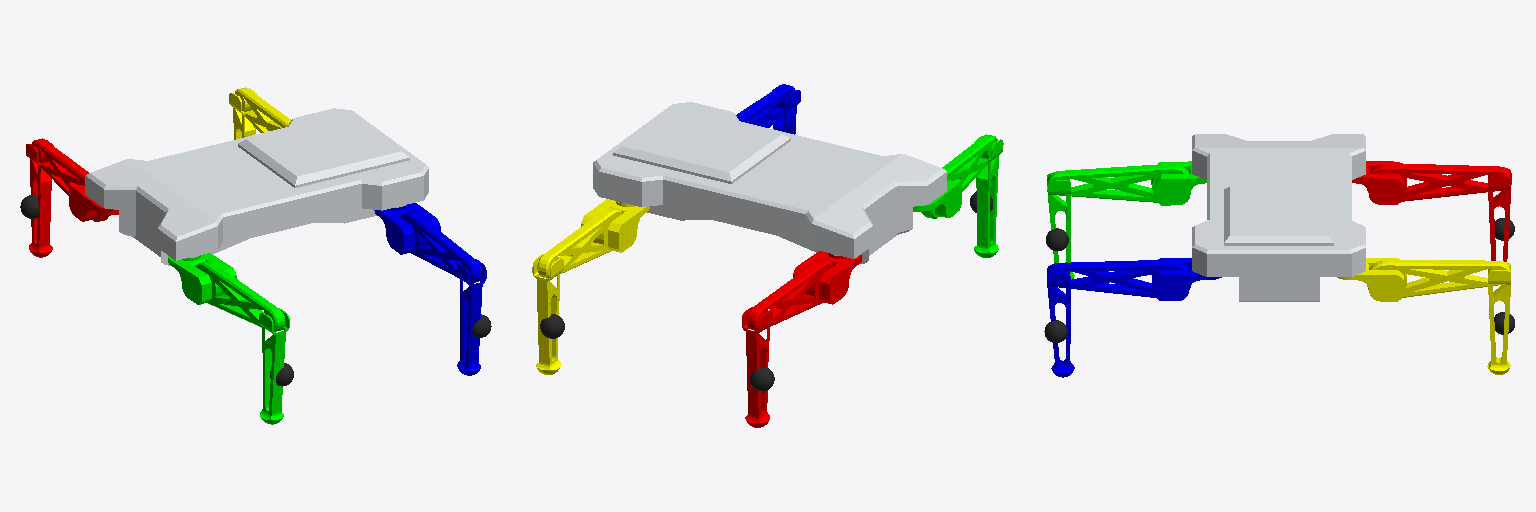
robot.urdf — Full_robot_urdf:
<?xml version="1.0" encoding="utf-8"?>
<!-- This URDF was automatically created by SolidWorks to URDF Exporter! Originally created by Stephen Brawner (brawner@gmail.com) 
     Commit Version: 1.6.0-4-g7f85cfe  Build Version: 1.6.7995.38578
     For more information, please see http://wiki.ros.org/sw_urdf_exporter -->
<robot
  name="Full_robot_urdf">
  
  <!-- Define materials -->
  <material name="red">
    <color rgba="1 0 0 1"/>
  </material>
  <material name="green">
    <color rgba="0 1 0 1"/>
  </material>
  <material name="blue">
    <color rgba="0 0 1 1"/>
  </material>
  <material name="yellow">
    <color rgba="1 1 0 1"/>
  </material>
  <material name="gray">
    <color rgba="0.898039215686275 0.917647058823529 0.929411764705882 1"/>
  </material>
  <material name="black">
    <color rgba="0.2 0.2 0.2 1"/>
  </material>
  
  <link
    name="base_link">
    <inertial>
      <origin
        xyz="0.0284130316166329 0 -0.037055289412498"
        rpy="0 0 0" />
      <mass
        value="10.5470635630031" />
      <inertia
        ixx="0.146794905291758"
        ixy="1.63338502818567E-16"
        ixz="-0.00569598484228597"
        iyy="0.547039589773236"
        iyz="1.08207180453233E-17"
        izz="0.653896621352249" />
    </inertial>
    <visual>
      <origin
        xyz="0 0 0"
        rpy="0 0 0" />
      <geometry>
        <mesh
          filename="package://Full_robot_urdf/meshes/base_link.STL" />
      </geometry>
      <material name="gray"/>
    </visual>
    <collision>
      <origin
        xyz="0 0 0"
        rpy="0 0 0" />
      <geometry>
        <mesh
          filename="package://Full_robot_urdf/meshes/base_link.STL" />
      </geometry>
    </collision>
  </link>
  <link
    name="Shoulder1_link">
    <inertial>
      <origin
        xyz="0.0425232933845158 -0.000261252925516098 0.0234811427090857"
        rpy="0 0 0" />
      <mass
        value="0.446431851564578" />
      <inertia
        ixx="0.000346699615288805"
        ixy="2.03833673178776E-06"
        ixz="-0.000113625282898098"
        iyy="0.000533711748532718"
        iyz="7.60304933744619E-07"
        izz="0.00068393682667711" />
    </inertial>
    <visual>
      <origin
        xyz="0 0 0"
        rpy="0 0 0" />
      <geometry>
        <mesh
          filename="package://Full_robot_urdf/meshes/Shoulder1_link.STL" />
      </geometry>
      <material name="red"/>
    </visual>
    <collision>
      <origin
        xyz="0 0 0"
        rpy="0 0 0" />
      <geometry>
        <mesh
          filename="package://Full_robot_urdf/meshes/Shoulder1_link.STL" />
      </geometry>
    </collision>
  </link>
  <joint
    name="Shoulder1_joint"
    type="revolute">
    <origin
      xyz="-0.20313 0.125 -0.055"
      rpy="3.1416 0 1.5423" />
    <parent
      link="base_link" />
    <child
      link="Shoulder1_link" />
    <axis
      xyz="0 0 1" /> 
    <limit
      lower="-0.75"
      upper="0.75"
      effort="100"
      velocity="4" />
  </joint>
  <link
    name="Waist1_link">
    <inertial>
      <origin
        xyz="0.0725080394079287 7.7715611723761E-15 -0.0124999999999997"
        rpy="0 0 0" />
      <mass
        value="0.591365572491094" />
      <inertia
        ixx="0.000192326305141676"
        ixy="-6.98802181484798E-19"
        ixz="-6.81861522539712E-20"
        iyy="0.00305489019743548"
        iyz="-2.11758236813575E-20"
        izz="0.00320512013282677" />
    </inertial>
    <visual>
      <origin
        xyz="0 0 0"
        rpy="0 0 0" />
      <geometry>
        <mesh
          filename="package://Full_robot_urdf/meshes/Waist1_link.STL" />
      </geometry>
      <material name="red"/>
    </visual>
    <collision>
      <origin
        xyz="0 0 0"
        rpy="0 0 0" />
      <geometry>
        <mesh
          filename="package://Full_robot_urdf/meshes/Waist1_link.STL" />
      </geometry>
    </collision>
  </link>
  <joint
    name="Waist1_joint"
    type="revolute">
    <origin
      xyz="0.06 -0.0125 0.03"
      rpy="1.5708 0.056944 0" />
    <parent
      link="Shoulder1_link" />
    <child
      link="Waist1_link" />
    <axis
      xyz="0 0 -1" />
    <limit
      lower="0"
      upper="0.90"
      effort="100"
      velocity="4" />
  </joint>
  <link
    name="Knee1_link">
    <inertial>
      <origin
        xyz="-0.0050624418008357 0.101001873832838 -0.0125000053341605"
        rpy="0 0 0" />
      <mass
        value="0.215434223021017" />
      <inertia
        ixx="0.000815108435315712"
        ixy="6.20387386315345E-05"
        ixz="-7.22756824939589E-11"
        iyy="4.3953630532163E-05"
        iyz="7.63119432850565E-11"
        izz="0.000832986526105727" />
    </inertial>
    <visual>
      <origin
        xyz="0 0 0"
        rpy="0 0 0" />
      <geometry>
        <mesh
          filename="package://Full_robot_urdf/meshes/Knee1_link.STL" />
      </geometry>
      <material name="red"/>
    </visual>
    <collision>
      <origin
        xyz="0 0 0"
        rpy="0 0 0" />
      <geometry>
        <mesh
          filename="package://Full_robot_urdf/meshes/Knee1_link.STL" />
      </geometry>
    </collision>
  </link>
  <joint
    name="Knee1_joint"
    type="revolute">
    <origin
      xyz="0.195 0 0"
      rpy="0 0 0" />
    <parent
      link="Waist1_link" />
    <child
      link="Knee1_link" />
    <axis
      xyz="0 0 -1" />
    <limit
      lower="-0.60"
      upper="1.0"
      effort="100"
      velocity="4" />
  </joint>
  <!-- Foot 1 -->
  <link
    name="Foot1_link">
    <inertial>
      <origin xyz="0 0 0" rpy="0 0 0" />
      <mass value="0.05" />
      <inertia
        ixx="0.00001"
        ixy="0"
        ixz="0"
        iyy="0.00001"
        iyz="0"
        izz="0.00001" />
    </inertial>
    <visual>
      <origin xyz="0 0 0" rpy="0 0 0" />
      <geometry>
        <sphere radius="0.02"/>
      </geometry>
      <material name="black"/>
    </visual>
    <collision>
      <origin xyz="0 0 0" rpy="0 0 0" />
      <geometry>
        <sphere radius="0.02"/>
      </geometry>
    </collision>
  </link>
  <joint
    name="Foot1_joint"
    type="fixed">
    <origin
      xyz="0 0.1019 0"
      rpy="0 0 0" />
    <parent
      link="Knee1_link" />
    <child
      link="Foot1_link" />
  </joint>
  
  <link
    name="Shoulder2_link">
    <inertial>
      <origin
        xyz="0.0425232933845229 -0.000261252925515487 0.0234811427090857"
        rpy="0 0 0" />
      <mass
        value="0.446431851564578" />
      <inertia
        ixx="0.000346699615288805"
        ixy="2.03833673178763E-06"
        ixz="-0.000113625282898098"
        iyy="0.000533711748532718"
        iyz="7.60304933744541E-07"
        izz="0.000683936826677109" />
    </inertial>
    <visual>
      <origin
        xyz="0 0 0"
        rpy="0 0 0" />
      <geometry>
        <mesh
          filename="package://Full_robot_urdf/meshes/Shoulder2_link.STL" />
      </geometry>
      <material name="green"/>
    </visual>
    <collision>
      <origin
        xyz="0 0 0"
        rpy="0 0 0" />
      <geometry>
        <mesh
          filename="package://Full_robot_urdf/meshes/Shoulder2_link.STL" />
      </geometry>
    </collision>
  </link>
  <joint
    name="Shoulder2_joint"
    type="revolute">
    <origin
      xyz="-0.20313 -0.125 -0.055"
      rpy="3.1416 0 -1.5058" />
    <parent
      link="base_link" />
    <child
      link="Shoulder2_link" />
    <axis
      xyz="0 0 -1" />
    <limit
      lower="-0.75"
      upper="0.75"
      effort="100"
      velocity="4" />
  </joint>
  <link
    name="Waist2_link">
    <inertial>
      <origin
        xyz="0.0724631584146513 -0.00255077465818149 -0.0125"
        rpy="0 0 0" />
      <mass
        value="0.591365572491094" />
      <inertia
        ixx="0.000195868945386368"
        ixy="0.000100640368381385"
        ixz="7.85199542104736E-19"
        iyy="0.00305134755719079"
        iyz="-2.93141071993124E-20"
        izz="0.00320512013282678" />
    </inertial>
    <visual>
      <origin
        xyz="0 0 0"
        rpy="0 0 0" />
      <geometry>
        <mesh
          filename="package://Full_robot_urdf/meshes/Waist2_link.STL" />
      </geometry>
      <material name="green"/>
    </visual>
    <collision>
      <origin
        xyz="0 0 0"
        rpy="0 0 0" />
      <geometry>
        <mesh
          filename="package://Full_robot_urdf/meshes/Waist2_link.STL" />
      </geometry>
    </collision>
  </link>
  <joint
    name="Waist2_joint"
    type="revolute">
    <origin
      xyz="0.06 -0.0125 0.03"
      rpy="1.5708 0 0" />
    <parent
      link="Shoulder2_link" />
    <child
      link="Waist2_link" />
    <axis
      xyz="0 0 -1" />
    <limit
      lower="0"
      upper="0.90"
      effort="100"
      velocity="4" />
  </joint>
  <link
    name="Knee2_link">
    <inertial>
      <origin
        xyz="-0.00676064409002064 0.10090242766993 -0.0124999854441368"
        rpy="0 0 0" />
      <mass
        value="0.215434206022005" />
      <inertia
        ixx="0.000812803464483711"
        ixy="7.49730623373882E-05"
        ixz="-7.14215684105579E-11"
        iyy="4.62585740921012E-05"
        iyz="3.81104825477536E-11"
        izz="0.000832986494370386" />
    </inertial>
    <visual>
      <origin
        xyz="0 0 0"
        rpy="0 0 0" />
      <geometry>
        <mesh
          filename="package://Full_robot_urdf/meshes/Knee2_link.STL" />
      </geometry>
      <material name="green"/>
    </visual>
    <collision>
      <origin
        xyz="0 0 0"
        rpy="0 0 0" />
      <geometry>
        <mesh
          filename="package://Full_robot_urdf/meshes/Knee2_link.STL" />
      </geometry>
    </collision>
  </link>
  <joint
    name="Knee2_joint"
    type="revolute">
    <origin
      xyz="0.19488 -0.0068599 0"
      rpy="0 0 -0.035186" />
    <parent
      link="Waist2_link" />
    <child
      link="Knee2_link" />
    <axis
      xyz="0 0 -1" />
    <limit
      lower="-0.60"
      upper="1.0"
      effort="100"
      velocity="4" />
  </joint>
  <!-- Foot 2 -->
  <link
    name="Foot2_link">
    <inertial>
      <origin xyz="0 0 0" rpy="0 0 0" />
      <mass value="0.05" />
      <inertia
        ixx="0.00001"
        ixy="0"
        ixz="0"
        iyy="0.00001"
        iyz="0"
        izz="0.00001" />
    </inertial>
    <visual>
      <origin xyz="0 0 0" rpy="0 0 0" />
      <geometry>
        <sphere radius="0.02"/>
      </geometry>
      <material name="black"/>
    </visual>
    <collision>
      <origin xyz="0 0 0" rpy="0 0 0" />
      <geometry>
        <sphere radius="0.02"/>
      </geometry>
    </collision>
  </link>
  <joint
    name="Foot2_joint"
    type="fixed">
    <origin
      xyz="0 0.1019 0"
      rpy="0 0 0" />
    <parent
      link="Knee2_link" />
    <child
      link="Foot2_link" />
  </joint>
  
  <link
    name="Shoulder3_link">
    <inertial>
      <origin
        xyz="0.042523293384519 -0.000261252925511476 0.0234811427090857"
        rpy="0 0 0" />
      <mass
        value="0.446431851564578" />
      <inertia
        ixx="0.000346699615288805"
        ixy="2.0383367317876E-06"
        ixz="-0.000113625282898098"
        iyy="0.000533711748532718"
        iyz="7.60304933744661E-07"
        izz="0.00068393682667711" />
    </inertial>
    <visual>
      <origin
        xyz="0 0 0"
        rpy="0 0 0" />
      <geometry>
        <mesh
          filename="package://Full_robot_urdf/meshes/Shoulder3_link.STL" />
      </geometry>
      <material name="blue"/>
    </visual>
    <collision>
      <origin
        xyz="0 0 0"
        rpy="0 0 0" />
      <geometry>
        <mesh
          filename="package://Full_robot_urdf/meshes/Shoulder3_link.STL" />
      </geometry>
    </collision>
  </link>
  <joint
    name="Shoulder3_joint"
    type="revolute">
    <origin
      xyz="0.19187 -0.125 -0.055"
      rpy="3.1416 0 -1.5761" />
    <parent
      link="base_link" />
    <child
      link="Shoulder3_link" />
    <axis
      xyz="0 0 -1" />
    <limit
      lower="-0.75"
      upper="0.75"
      effort="100"
      velocity="4" />
  </joint>
  <link
    name="Waist3_link">
    <inertial>
      <origin
        xyz="0.0725080254304402 -2.81011075520254E-10 -0.0125000005523184"
        rpy="0 0 0" />
      <mass
        value="0.591365572491093" />
      <inertia
        ixx="0.000192326305141675"
        ixy="-6.62177791440656E-12"
        ixz="-1.35847402098527E-11"
        iyy="0.00305489019743547"
        iyz="-2.81395044692189E-14"
        izz="0.00320512013282677" />
    </inertial>
    <visual>
      <origin
        xyz="0 0 0"
        rpy="0 0 0" />
      <geometry>
        <mesh
          filename="package://Full_robot_urdf/meshes/Waist3_link.STL" />
      </geometry>
      <material name="blue"/>
    </visual>
    <collision>
      <origin
        xyz="0 0 0"
        rpy="0 0 0" />
      <geometry>
        <mesh
          filename="package://Full_robot_urdf/meshes/Waist3_link.STL" />
      </geometry>
    </collision>
  </link>
  <joint
    name="Waist3_joint"
    type="revolute">
    <origin
      xyz="0.06 -0.0125 0.03"
      rpy="1.5708 0.041517 0" />
    <parent
      link="Shoulder3_link" />
    <child
      link="Waist3_link" />
    <axis
      xyz="0 0 -1" />
    <limit
      lower="0"
      upper="0.90"
      effort="100"
      velocity="4" />
  </joint>
  <link
    name="Knee3_link">
    <inertial>
      <origin
        xyz="-0.00760671615583863 0.100842174540015 -0.0125000055791627"
        rpy="0 0 0" />
      <mass
        value="0.215434207319039" />
      <inertia
        ixx="0.000811491910537708"
        ixy="8.13916830418142E-05"
        ixz="-7.484921917098E-11"
        iyy="4.75701291302227E-05"
        iyz="7.70827957905519E-11"
        izz="0.000832986495885628" />
    </inertial>
    <visual>
      <origin
        xyz="0 0 0"
        rpy="0 0 0" />
      <geometry>
        <mesh
          filename="package://Full_robot_urdf/meshes/Knee3_link.STL" />
      </geometry>
      <material name="blue"/>
    </visual>
    <collision>
      <origin
        xyz="0 0 0"
        rpy="0 0 0" />
      <geometry>
        <mesh
          filename="package://Full_robot_urdf/meshes/Knee3_link.STL" />
      </geometry>
    </collision>
  </link>
  <joint
    name="Knee3_joint"
    type="revolute">
    <origin
      xyz="0.195 0 0"
      rpy="0 0 0" />
    <parent
      link="Waist3_link" />
    <child
      link="Knee3_link" />
    <axis
      xyz="0 0 -1" />
    <limit
      lower="-0.60"
      upper="1.0"
      effort="100"
      velocity="4" />
  </joint>
  <!-- Foot 3 -->
  <link
    name="Foot3_link">
    <inertial>
      <origin xyz="0 0 0" rpy="0 0 0" />
      <mass value="0.05" />
      <inertia
        ixx="0.00001"
        ixy="0"
        ixz="0"
        iyy="0.00001"
        iyz="0"
        izz="0.00001" />
    </inertial>
    <visual>
      <origin xyz="0 0 0" rpy="0 0 0" />
      <geometry>
        <sphere radius="0.02"/>
      </geometry>
      <material name="black"/>
    </visual>
    <collision>
      <origin xyz="0 0 0" rpy="0 0 0" />
      <geometry>
        <sphere radius="0.02"/>
      </geometry>
    </collision>
  </link>
  <joint
    name="Foot3_joint"
    type="fixed">
    <origin
      xyz="0 0.1019 0"
      rpy="0 0 0" />
    <parent
      link="Knee3_link" />
    <child
      link="Foot3_link" />
  </joint>
  
  <link
    name="Shoulder4_link">
    <inertial>
      <origin
        xyz="0.0425232933845229 -0.000261252925515418 0.0234811427090856"
        rpy="0 0 0" />
      <mass
        value="0.446431851564578" />
      <inertia
        ixx="0.000346699615288805"
        ixy="2.03833673178753E-06"
        ixz="-0.000113625282898098"
        iyy="0.000533711748532718"
        iyz="7.60304933744745E-07"
        izz="0.000683936826677109" />
    </inertial>
    <visual>
      <origin
        xyz="0 0 0"
        rpy="0 0 0" />
      <geometry>
        <mesh
          filename="package://Full_robot_urdf/meshes/Shoulder4_link.STL" />
      </geometry>
      <material name="yellow"/>
    </visual>
    <collision>
      <origin
        xyz="0 0 0"
        rpy="0 0 0" />
      <geometry>
        <mesh
          filename="package://Full_robot_urdf/meshes/Shoulder4_link.STL" />
      </geometry>
    </collision>
  </link>
  <joint
    name="Shoulder4_joint"
    type="revolute">
    <origin
      xyz="0.19187 0.125 -0.055"
      rpy="3.1416 0 1.5643" />
    <parent
      link="base_link" />
    <child
      link="Shoulder4_link" />
    <axis
      xyz="0 0 1" />
    <limit
      lower="-0.75"
      upper="0.75"
      effort="100"
      velocity="4" />
  </joint>
  <link
    name="Waist4_joint">
    <inertial>
      <origin
        xyz="0.0725080394079408 5.64132074387658E-15 -0.0124999999999969"
        rpy="0 0 0" />
      <mass
        value="0.591365572491094" />
      <inertia
        ixx="0.000192326305141676"
        ixy="1.32033801752106E-16"
        ixz="7.62423884944252E-17"
        iyy="0.00305489019743548"
        iyz="5.64865096700212E-19"
        izz="0.00320512013282677" />
    </inertial>
    <visual>
      <origin
        xyz="0 0 0"
        rpy="0 0 0" />
      <geometry>
        <mesh
          filename="package://Full_robot_urdf/meshes/Waist4_joint.STL" />
      </geometry>
      <material name="yellow"/>
    </visual>
    <collision>
      <origin
        xyz="0 0 0"
        rpy="0 0 0" />
      <geometry>
        <mesh
          filename="package://Full_robot_urdf/meshes/Waist4_joint.STL" />
      </geometry>
    </collision>
  </link>
  <joint
    name="Waist4_link"
    type="revolute">
    <origin
      xyz="0.06 -0.0125 0.03"
      rpy="1.5708 0.070805 0" />
    <parent
      link="Shoulder4_link" />
    <child
      link="Waist4_joint" />
    <axis
      xyz="0 0 -1" />
    <limit
      lower="0"
      upper="0.90"
      effort="100"
      velocity="4" />
  </joint>
  <link
    name="Knee4_link">
    <inertial>
      <origin
        xyz="-0.00674755809678365 0.100903306482862 -0.0125000054884328"
        rpy="0 0 0" />
      <mass
        value="0.2154342220238" />
      <inertia
        ixx="0.000812822910160513"
        ixy="7.48737182851182E-05"
        ixz="-7.3799590957672E-11"
        iyy="4.62391536010821E-05"
        iyz="7.71438142257438E-11"
        izz="0.0008329865237343" />
    </inertial>
    <visual>
      <origin
        xyz="0 0 0"
        rpy="0 0 0" />
      <geometry>
        <mesh
          filename="package://Full_robot_urdf/meshes/Knee4_link.STL" />
      </geometry>
      <material name="yellow"/>
    </visual>
    <collision>
      <origin
        xyz="0 0 0"
        rpy="0 0 0" />
      <geometry>
        <mesh
          filename="package://Full_robot_urdf/meshes/Knee4_link.STL" />
      </geometry>
    </collision>
  </link>
  <joint
    name="Knee4_joint"
    type="revolute">
    <origin
      xyz="0.195 0 0"
      rpy="0 0 0" />
    <parent
      link="Waist4_joint" />
    <child
      link="Knee4_link" />
    <axis
      xyz="0 0 -1" />
    <limit
      lower="-0.60"
      upper="1.0"
      effort="100"
      velocity="4" />
  </joint>
  <!-- Foot 4 -->
  <link
    name="Foot4_link">
    <inertial>
      <origin xyz="0 0 0" rpy="0 0 0" />
      <mass value="0.05" />
      <inertia
        ixx="0.00001"
        ixy="0"
        ixz="0"
        iyy="0.00001"
        iyz="0"
        izz="0.00001" />
    </inertial>
    <visual>
      <origin xyz="0 0 0" rpy="0 0 0" />
      <geometry>
        <sphere radius="0.02"/>
      </geometry>
      <material name="black"/>
    </visual>
    <collision>
      <origin xyz="0 0 0" rpy="0 0 0" />
      <geometry>
        <sphere radius="0.02"/>
      </geometry>
    </collision>
  </link>
  <joint
    name="Foot4_joint"
    type="fixed">
    <origin
      xyz="0 0.1019 0"
      rpy="0 0 0" />
    <parent
      link="Knee4_link" />
    <child
      link="Foot4_link" />
  </joint>
</robot>

--- Render facts (derived) ---
3 views of the same robot in one strip: view 1: azimuth 30°, elevation 25°; view 2: azimuth 150°, elevation 25°; view 3: azimuth 270°, elevation 25° (orthographic).
Robot: Full_robot_urdf — 17 links, 16 joints (12 revolute, 4 fixed); root link base_link; default pose: all joints at 0.
Visible links, largest first — view 1: base_link, Waist2_link, Waist3_link, Knee2_link, Knee3_link, Knee1_link, Waist1_link, Shoulder2_link, Shoulder3_link, Waist4_joint, Shoulder1_link, Knee4_link; view 2: base_link, Waist1_link, Waist4_joint, Knee2_link, Knee1_link, Knee4_link, Shoulder1_link, Shoulder4_link, Waist2_link, Waist3_link, Shoulder2_link, Knee3_link; view 3: base_link, Waist1_link, Waist2_link, Waist4_joint, Waist3_link, Knee4_link, Knee3_link, Shoulder4_link, Shoulder3_link, Shoulder2_link, Shoulder1_link, Knee1_link (+1 smaller).
Boxes of the visible links, <box> form: base_link: <box>85,108,428,265</box>; Waist2_link: <box>196,261,284,331</box>; Waist3_link: <box>401,211,481,283</box>; Knee2_link: <box>259,308,289,424</box>; Knee3_link: <box>456,259,486,375</box>; Knee1_link: <box>26,140,53,257</box>; Waist1_link: <box>31,138,108,221</box>; Shoulder2_link: <box>168,253,236,304</box>; Shoulder3_link: <box>374,203,440,254</box>; Waist4_joint: <box>235,87,290,132</box>; Shoulder1_link: <box>69,185,118,221</box>; Knee4_link: <box>229,88,257,139</box>; base_link: <box>593,102,946,263</box>; Waist1_link: <box>747,259,833,330</box>; Waist4_joint: <box>537,208,621,278</box>; Knee2_link: <box>974,136,1003,257</box>; Knee1_link: <box>742,307,772,427</box>; Knee4_link: <box>532,254,563,374</box>; Shoulder1_link: <box>793,251,861,304</box>; Shoulder4_link: <box>581,199,649,252</box>; Waist2_link: <box>922,134,997,218</box>; Waist3_link: <box>736,84,795,127</box>; Shoulder2_link: <box>913,180,961,217</box>; Knee3_link: <box>772,85,800,134</box>; base_link: <box>1192,134,1365,301</box>; Waist1_link: <box>1367,163,1510,201</box>; Waist2_link: <box>1047,164,1188,202</box>; Waist4_joint: <box>1367,260,1510,297</box>; Waist3_link: <box>1047,260,1190,297</box>; Knee4_link: <box>1487,262,1510,374</box>; Knee3_link: <box>1047,264,1074,377</box>; Shoulder4_link: <box>1337,258,1403,301</box>; Shoulder3_link: <box>1154,258,1221,300</box>; Shoulder2_link: <box>1155,161,1206,205</box>; Shoulder1_link: <box>1352,161,1403,204</box>; Knee1_link: <box>1488,168,1511,261</box>.
Size in the robot's own frame: 0.5 by 0.8109 by 0.2855 metres.
Meshes: 13 distinct files referenced, 13 mesh visuals loaded (13 binary STL).
